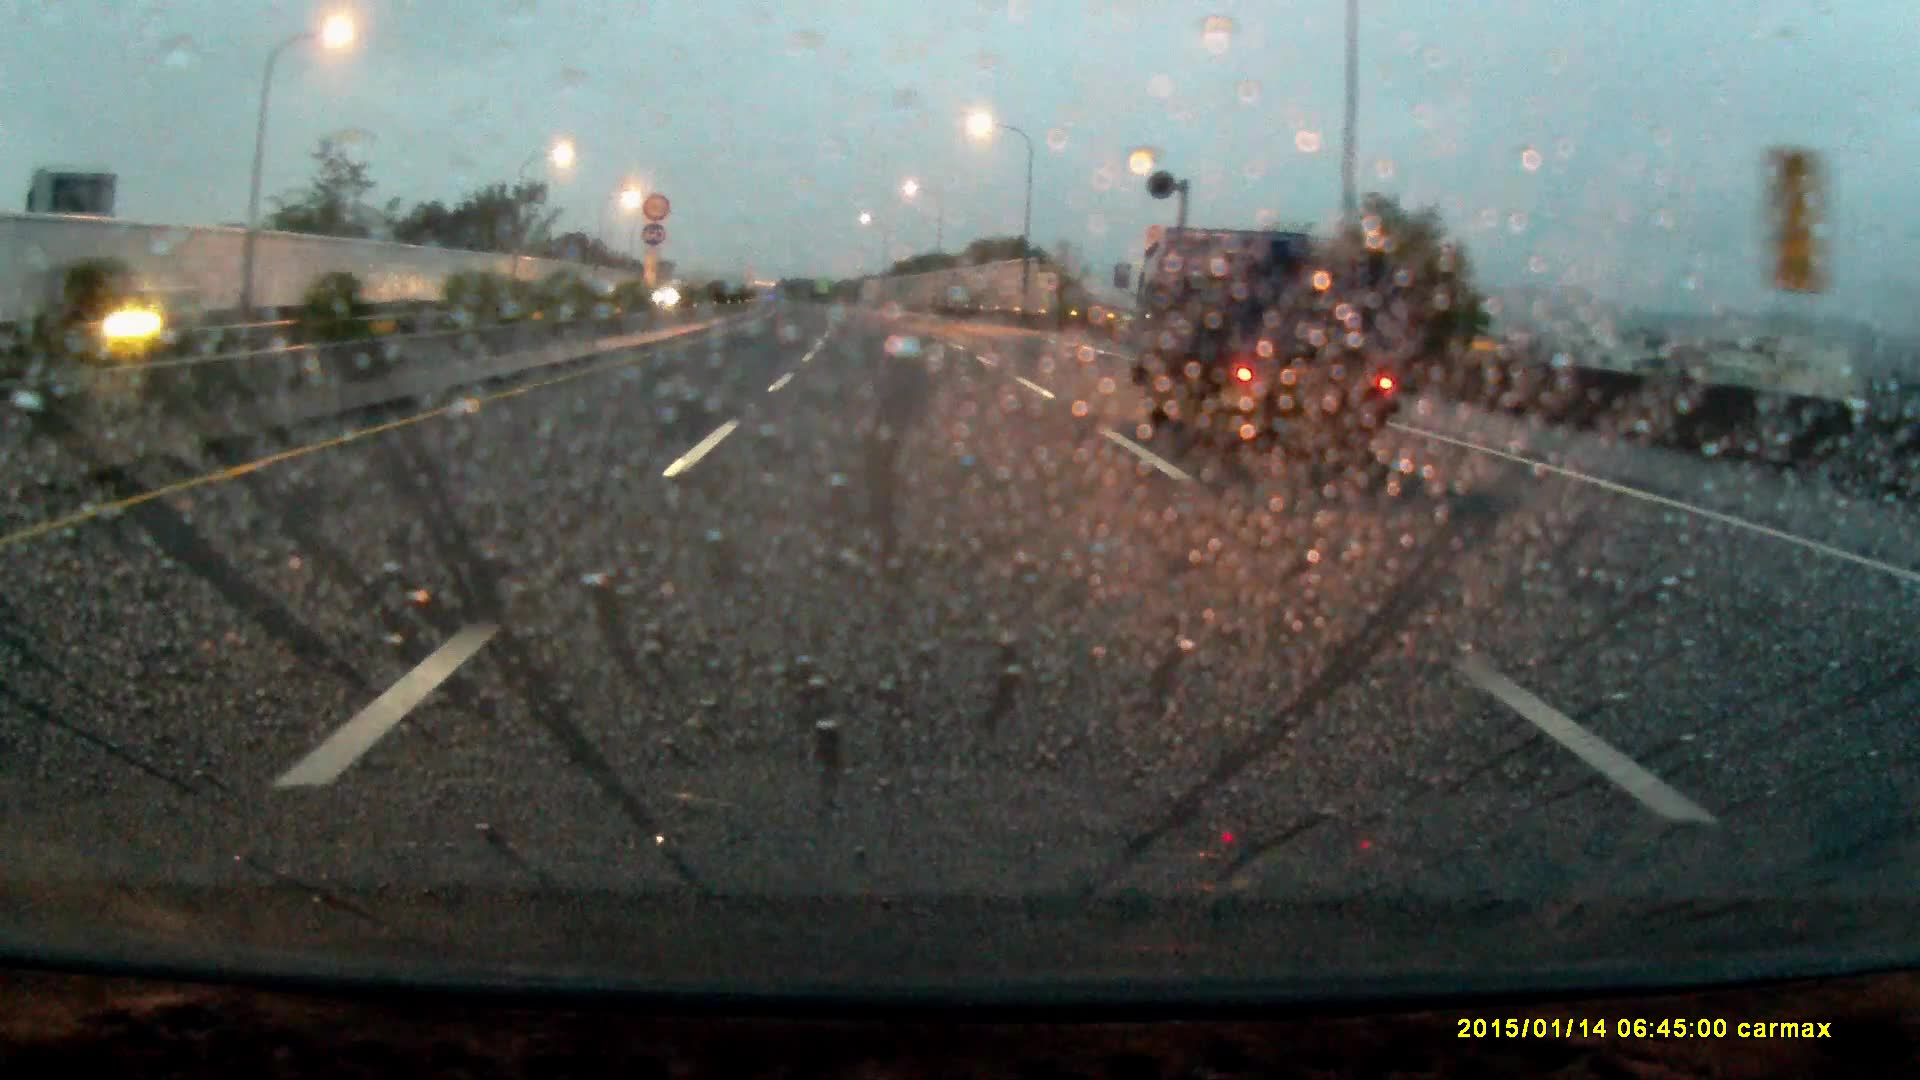vehicle: (1155, 218, 1423, 491)
